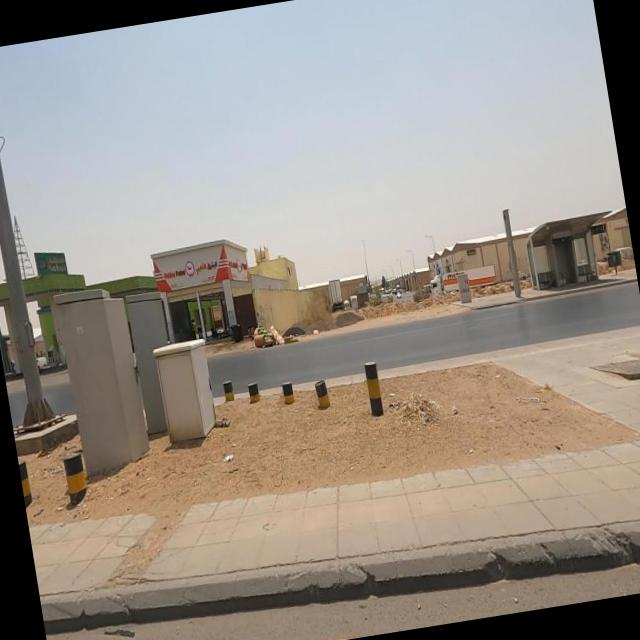debris: (230, 284, 316, 382), (202, 428, 254, 483), (298, 309, 336, 355)
